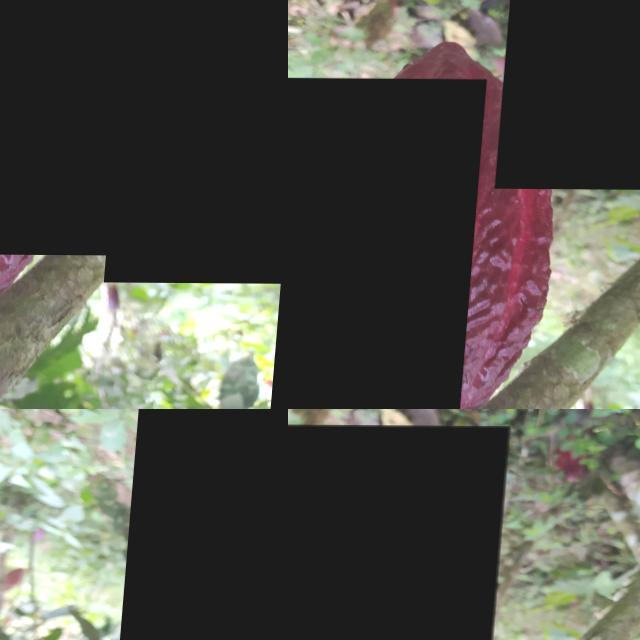Monilia: (123, 409, 288, 640)
Sana: (288, 77, 489, 409), (112, 0, 288, 282), (288, 424, 512, 640), (0, 0, 145, 254), (499, 0, 640, 189)
